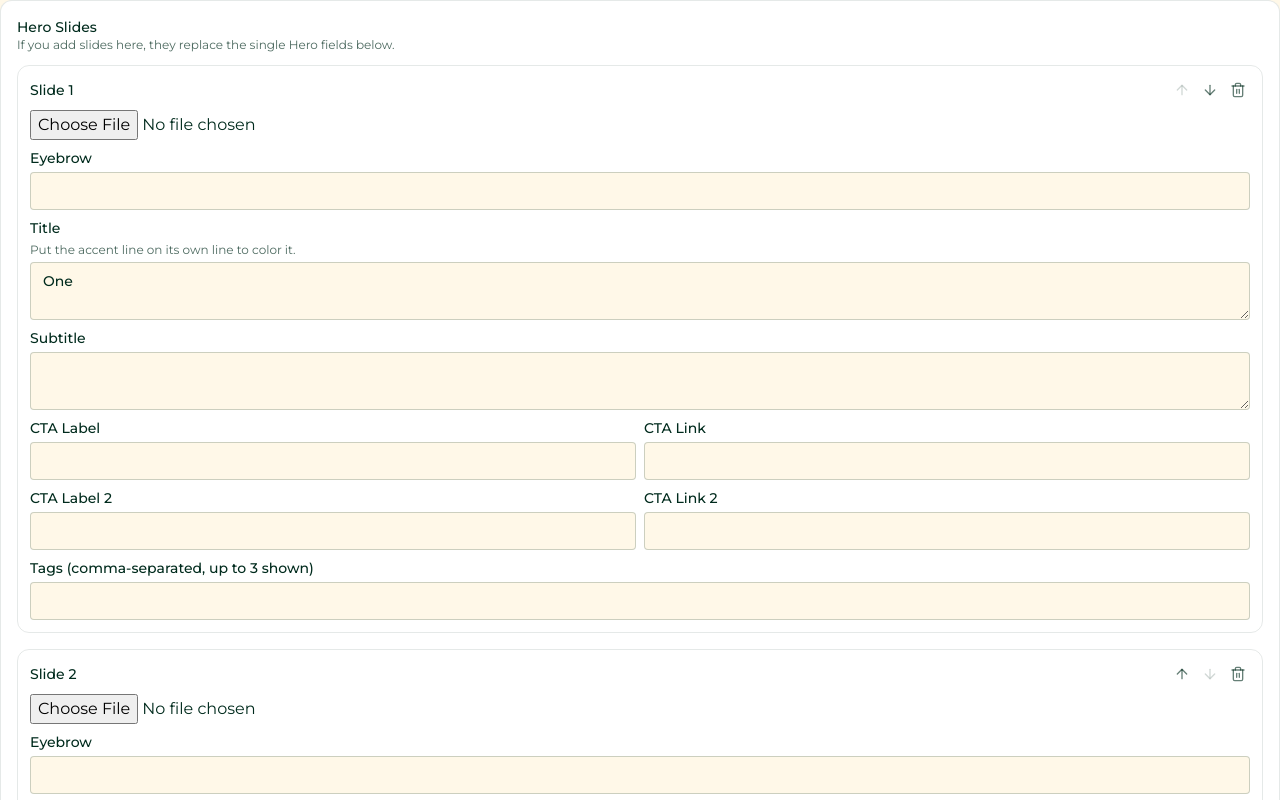
it: HeroSlidesEditor › removes a slide
Check: the text "Slide 2" is shown, box top-left (30, 664), bottom-right (76, 684)
Step 1. Click the 2nd button named "Remove slide" → point(1238, 674), box top-left (1226, 662), bottom-right (1250, 686)
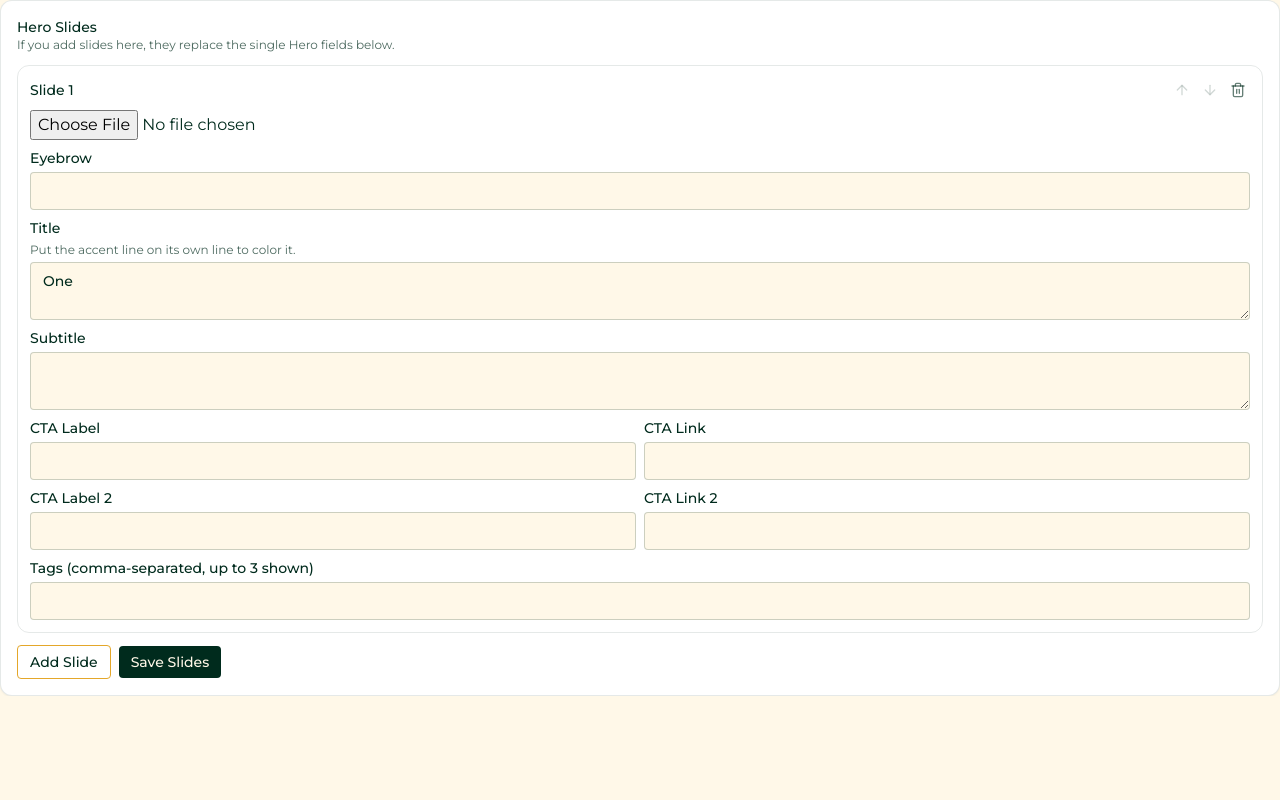
Check: the text "Slide 2" is gone
